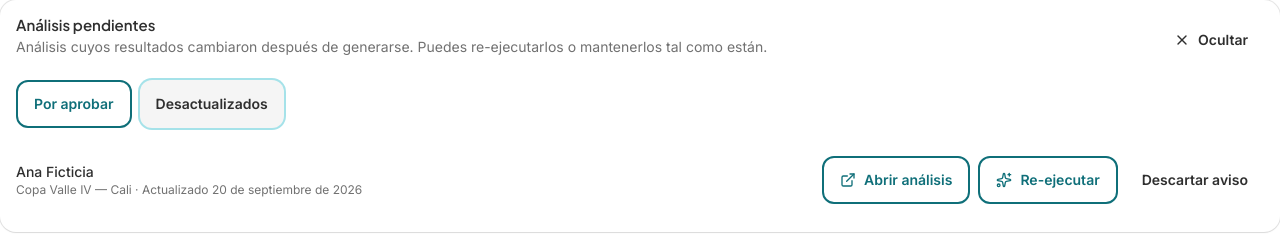
it: PendingAnalysesPanel — re-ejecutar › respaldo: si el ítem no trae season (null), la deriva del año de la fecha del evento
The image size is (1280, 250).
Note: Deshabilitado hasta conocer la temporada (evento por resolver).
What coordinates should you click on to do the following:
click the button with aria-label "Re-ejecutar el análisis de Ana Ficticia"
I would click on:
 (1048, 180)
Its box is x1=978 y1=156 x2=1118 y2=204.
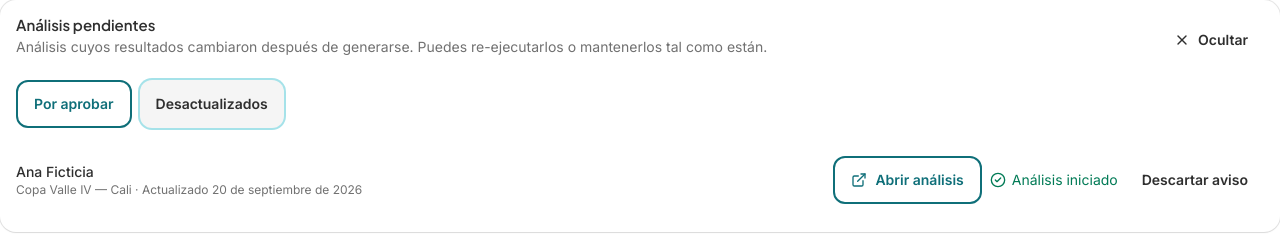
expect the message "Análisis iniciado" is shown: met, box x1=990 y1=171 x2=1118 y2=188
